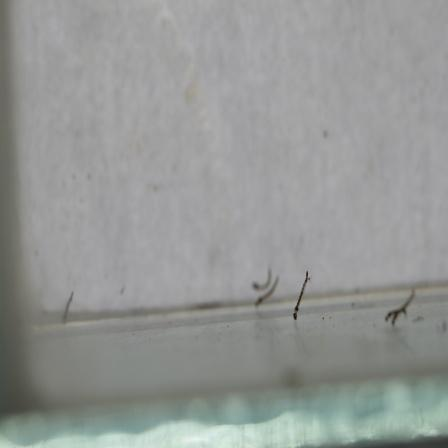Jentik-Nyamuk: (288, 269, 312, 320)
